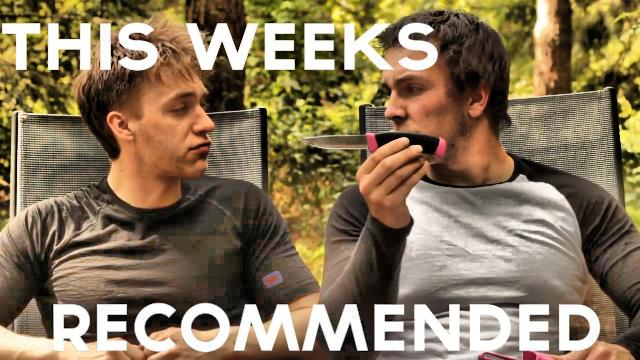knife: (291, 119, 455, 173)
